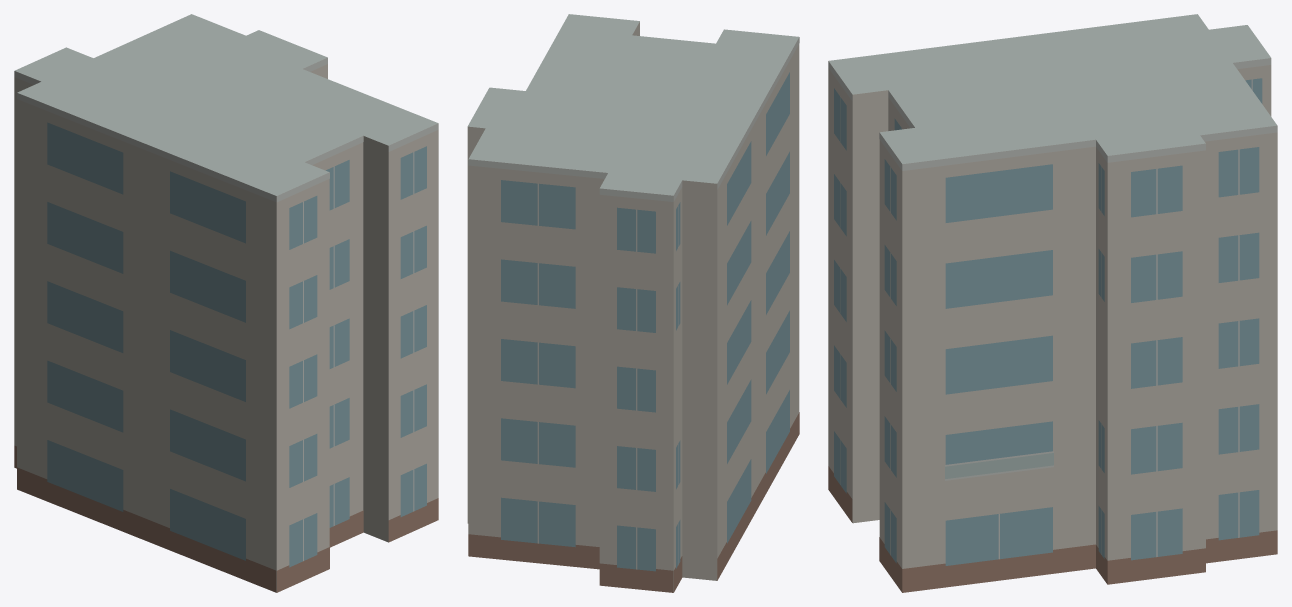
File: survey-upis-32921874.glb
3 views of the same model, side by side, from view 1: azimuth 30°, elevation 25°; view 2: azimuth 150°, elevation 25°; view 3: azimuth 270°, elevation 25° (orthographic). The views are drawn at different scales.
Visible parts, largest first — view 1: survey-upis-32921874.tmp; view 2: survey-upis-32921874.tmp; view 3: survey-upis-32921874.tmp.
Boxes of the visible parts, x1,y1,x2,y2 form: survey-upis-32921874.tmp: (14, 14, 438, 592); survey-upis-32921874.tmp: (467, 14, 799, 592); survey-upis-32921874.tmp: (828, 14, 1277, 592).
Bounding box in the file's own units: 11.47 × 15.25 × 14.49.
